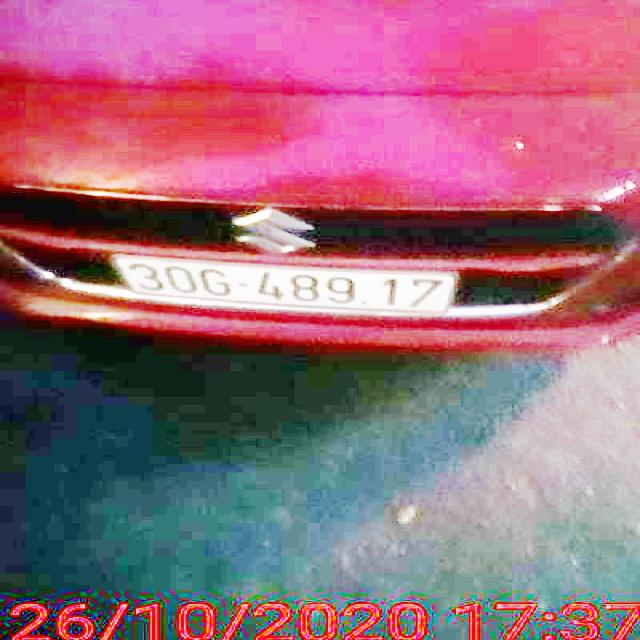license_plate: (115, 259, 458, 315)
